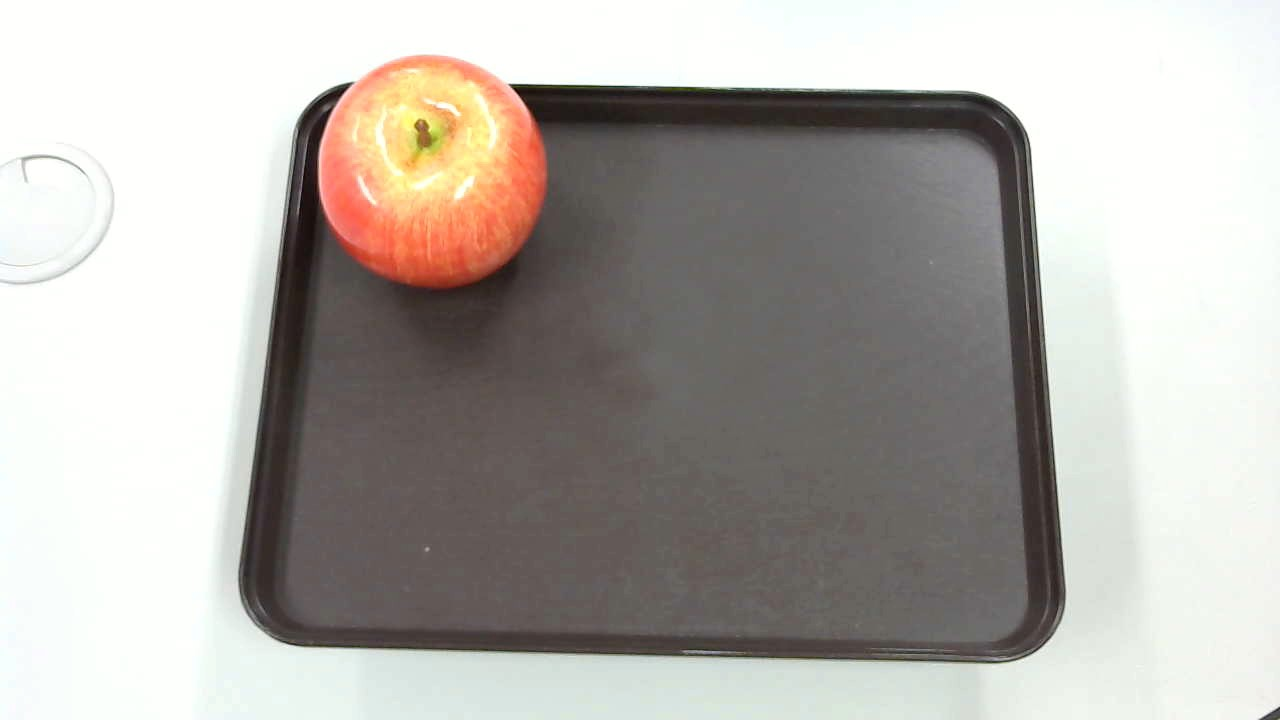red apple: (307, 47, 561, 296)
